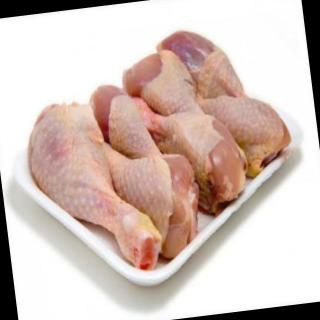Ayam: (16, 21, 307, 284), (25, 94, 167, 283), (129, 82, 249, 225), (118, 45, 217, 124)
